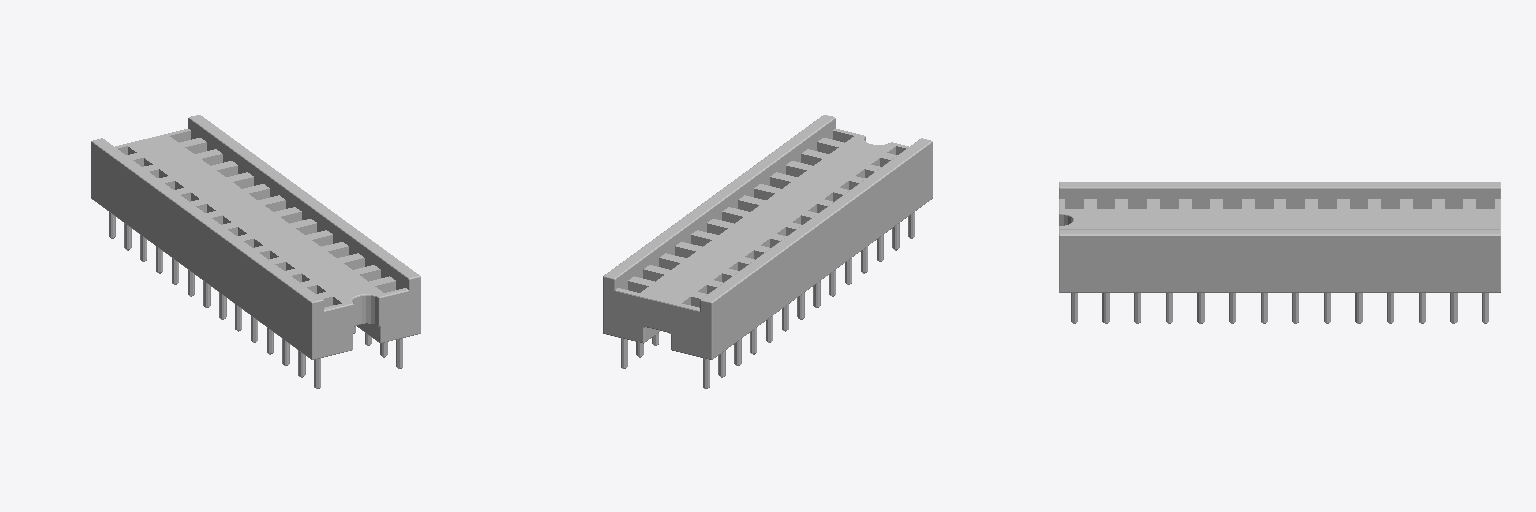
File: IC_Sockel_28P.obj
3 renders of one model, left to right at view 1: azimuth 30°, elevation 25°; view 2: azimuth 150°, elevation 25°; view 3: azimuth 270°, elevation 25°, orthographic.
Visible parts, largest first — view 1: Volumenkörper1; view 2: Volumenkörper1; view 3: Volumenkörper1.
Boxes of the visible parts, x1=… form: Volumenkörper1: x1=91, y1=115, x2=420, y2=388; Volumenkörper1: x1=603, y1=115, x2=932, y2=388; Volumenkörper1: x1=1059, y1=182, x2=1500, y2=323.
Size of the model in its own units: 10.16 by 8.46 by 35.56.